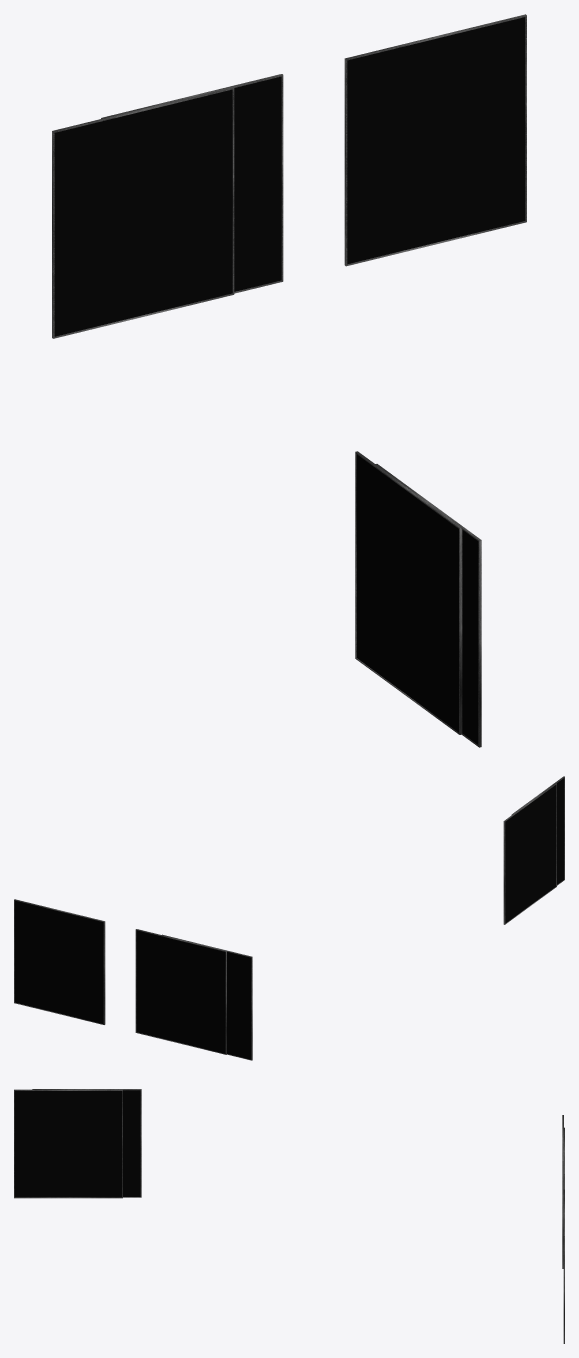
The model's file is Rack_Glass.fbx.
3 views of the same model, one above another, from view 1: azimuth 30°, elevation 25°; view 2: azimuth 150°, elevation 25°; view 3: azimuth 270°, elevation 25° (orthographic). The views are drawn at different scales.
Parts seen in each view (by area): view 1: Rack_Glass; view 2: Rack_Glass; view 3: Rack_Glass.
Part boxes in pixels (left/top/right/bottom): Rack_Glass: left=52, top=14, right=526, bottom=747; Rack_Glass: left=14, top=776, right=564, bottom=1060; Rack_Glass: left=14, top=1089, right=564, bottom=1343.
Size of the model in its own units: 6.73 by 2.31 by 10.69.
